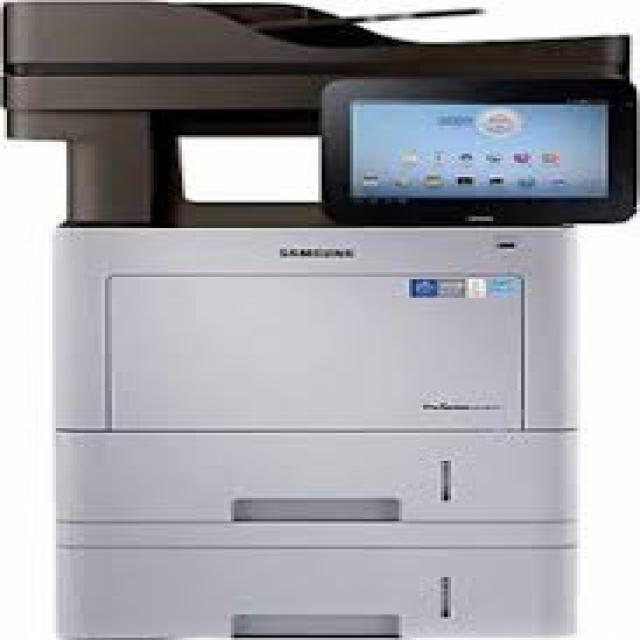printer: (4, 0, 636, 638)
